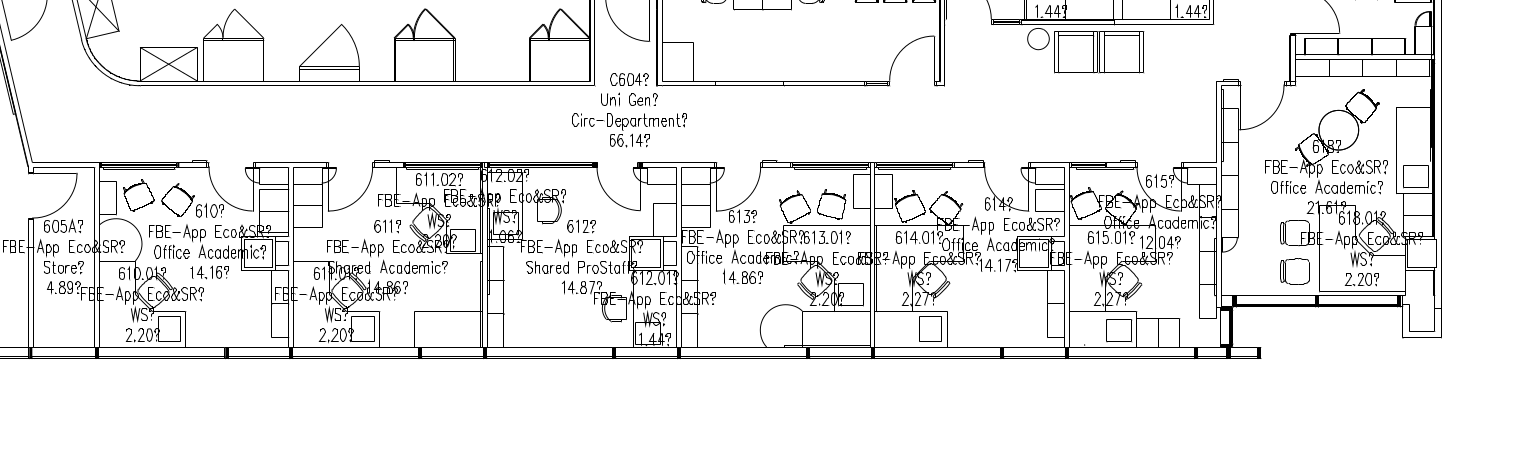door: (881, 25, 938, 97), (976, 149, 1033, 221), (1237, 68, 1286, 137), (593, 156, 643, 222), (713, 153, 763, 219), (23, 170, 80, 220), (326, 159, 374, 217), (209, 156, 257, 214), (1, 1, 57, 50), (602, 1, 650, 58)
